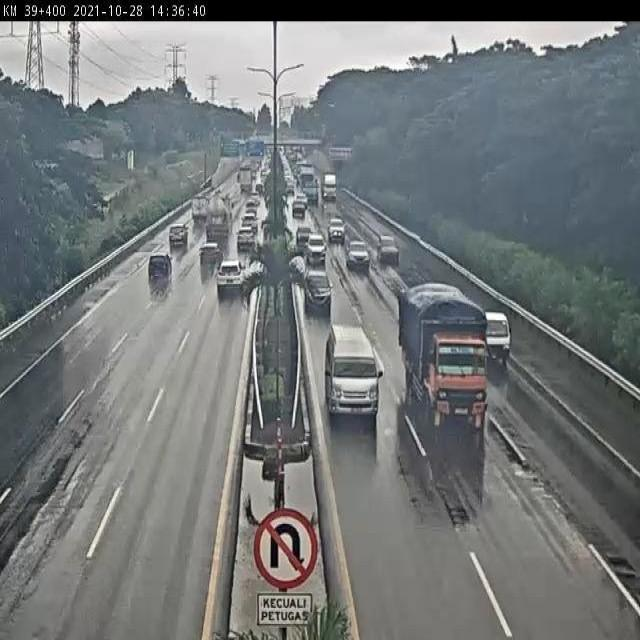bus-s-: (323, 325, 380, 419)
truck-m-: (391, 279, 477, 416)
truck-xl-: (205, 191, 232, 244)
